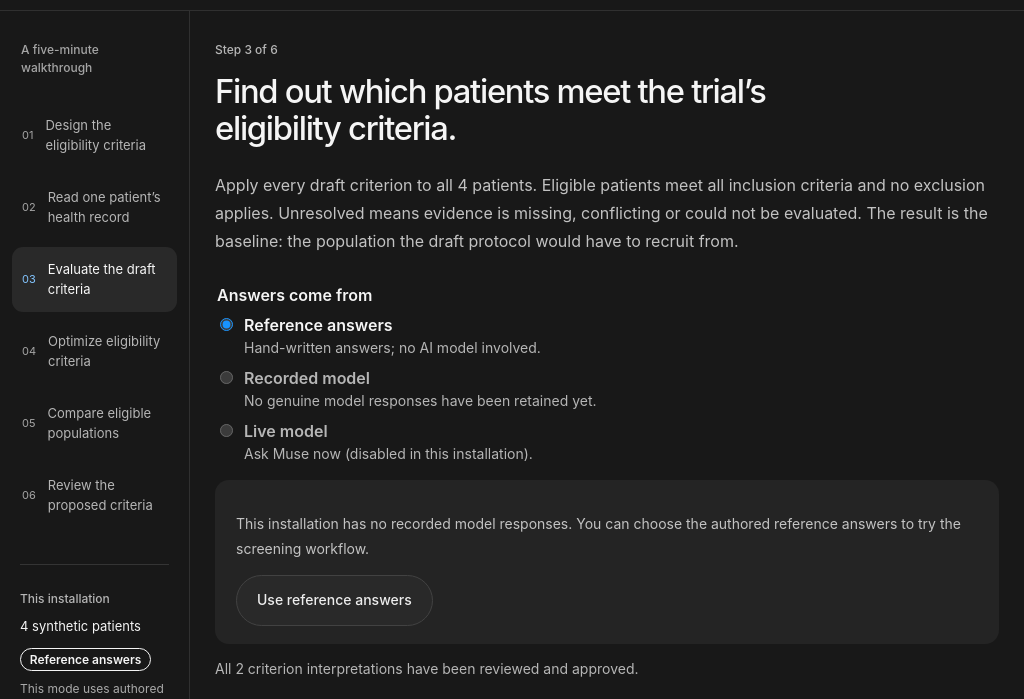
guided story safety and restoration › requires explicit reference selection when recordings are absent
Click the button "Use reference answers": point(334, 601) top-left (236, 575), bottom-right (433, 626)
(page scrolled)
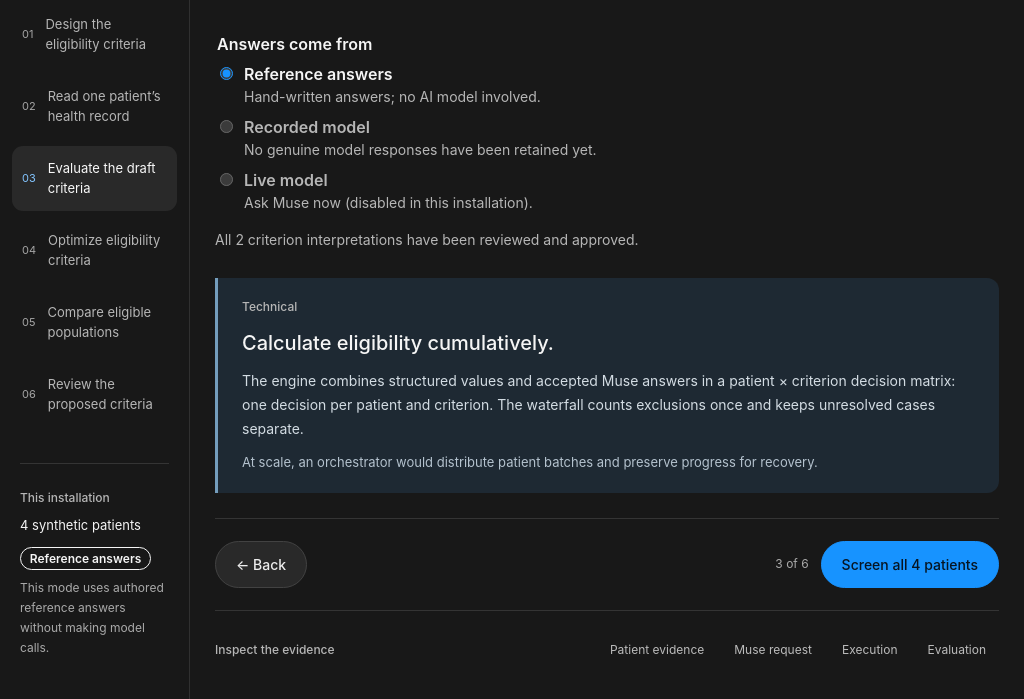
Now the button "Screen all 4 patients" is enabled, box top-left (821, 541), bottom-right (999, 588)
